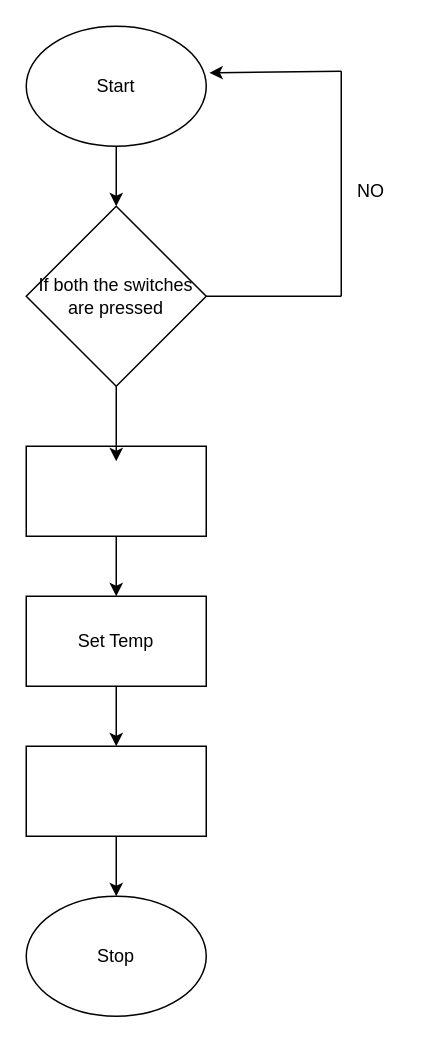
The diagram is 428 pixels wide and 1043 high, and some of its shapes have lost their labels. Here are the shapes that lost their labels. From the top down, the box of each, then its label:
(25, 445, 206, 536): Heater ON
(25, 745, 206, 836): Display Temp
